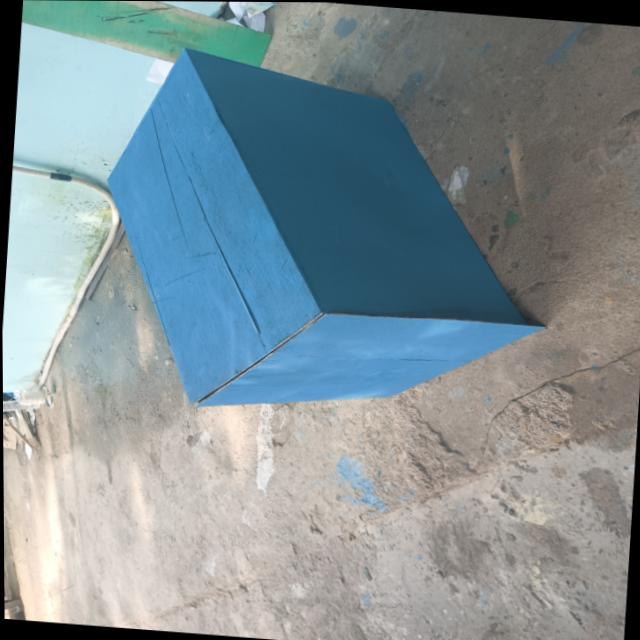blue_box: (85, 36, 557, 436)
